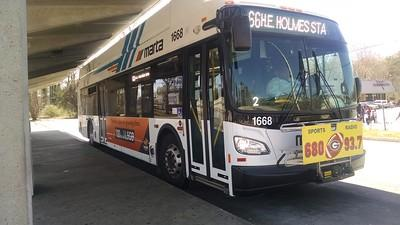bus: (68, 0, 371, 194)
